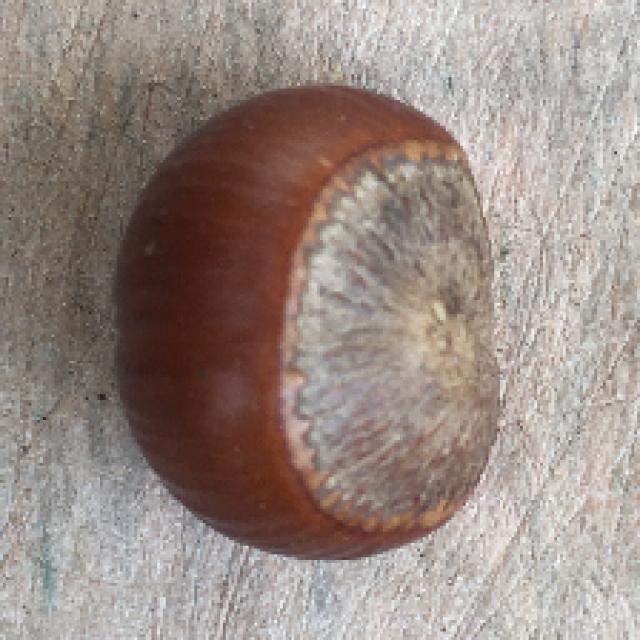qualityHazelnut: (106, 80, 510, 573)
